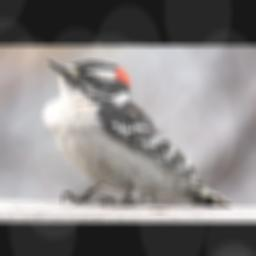Woodpecker: (40, 61, 231, 209)
